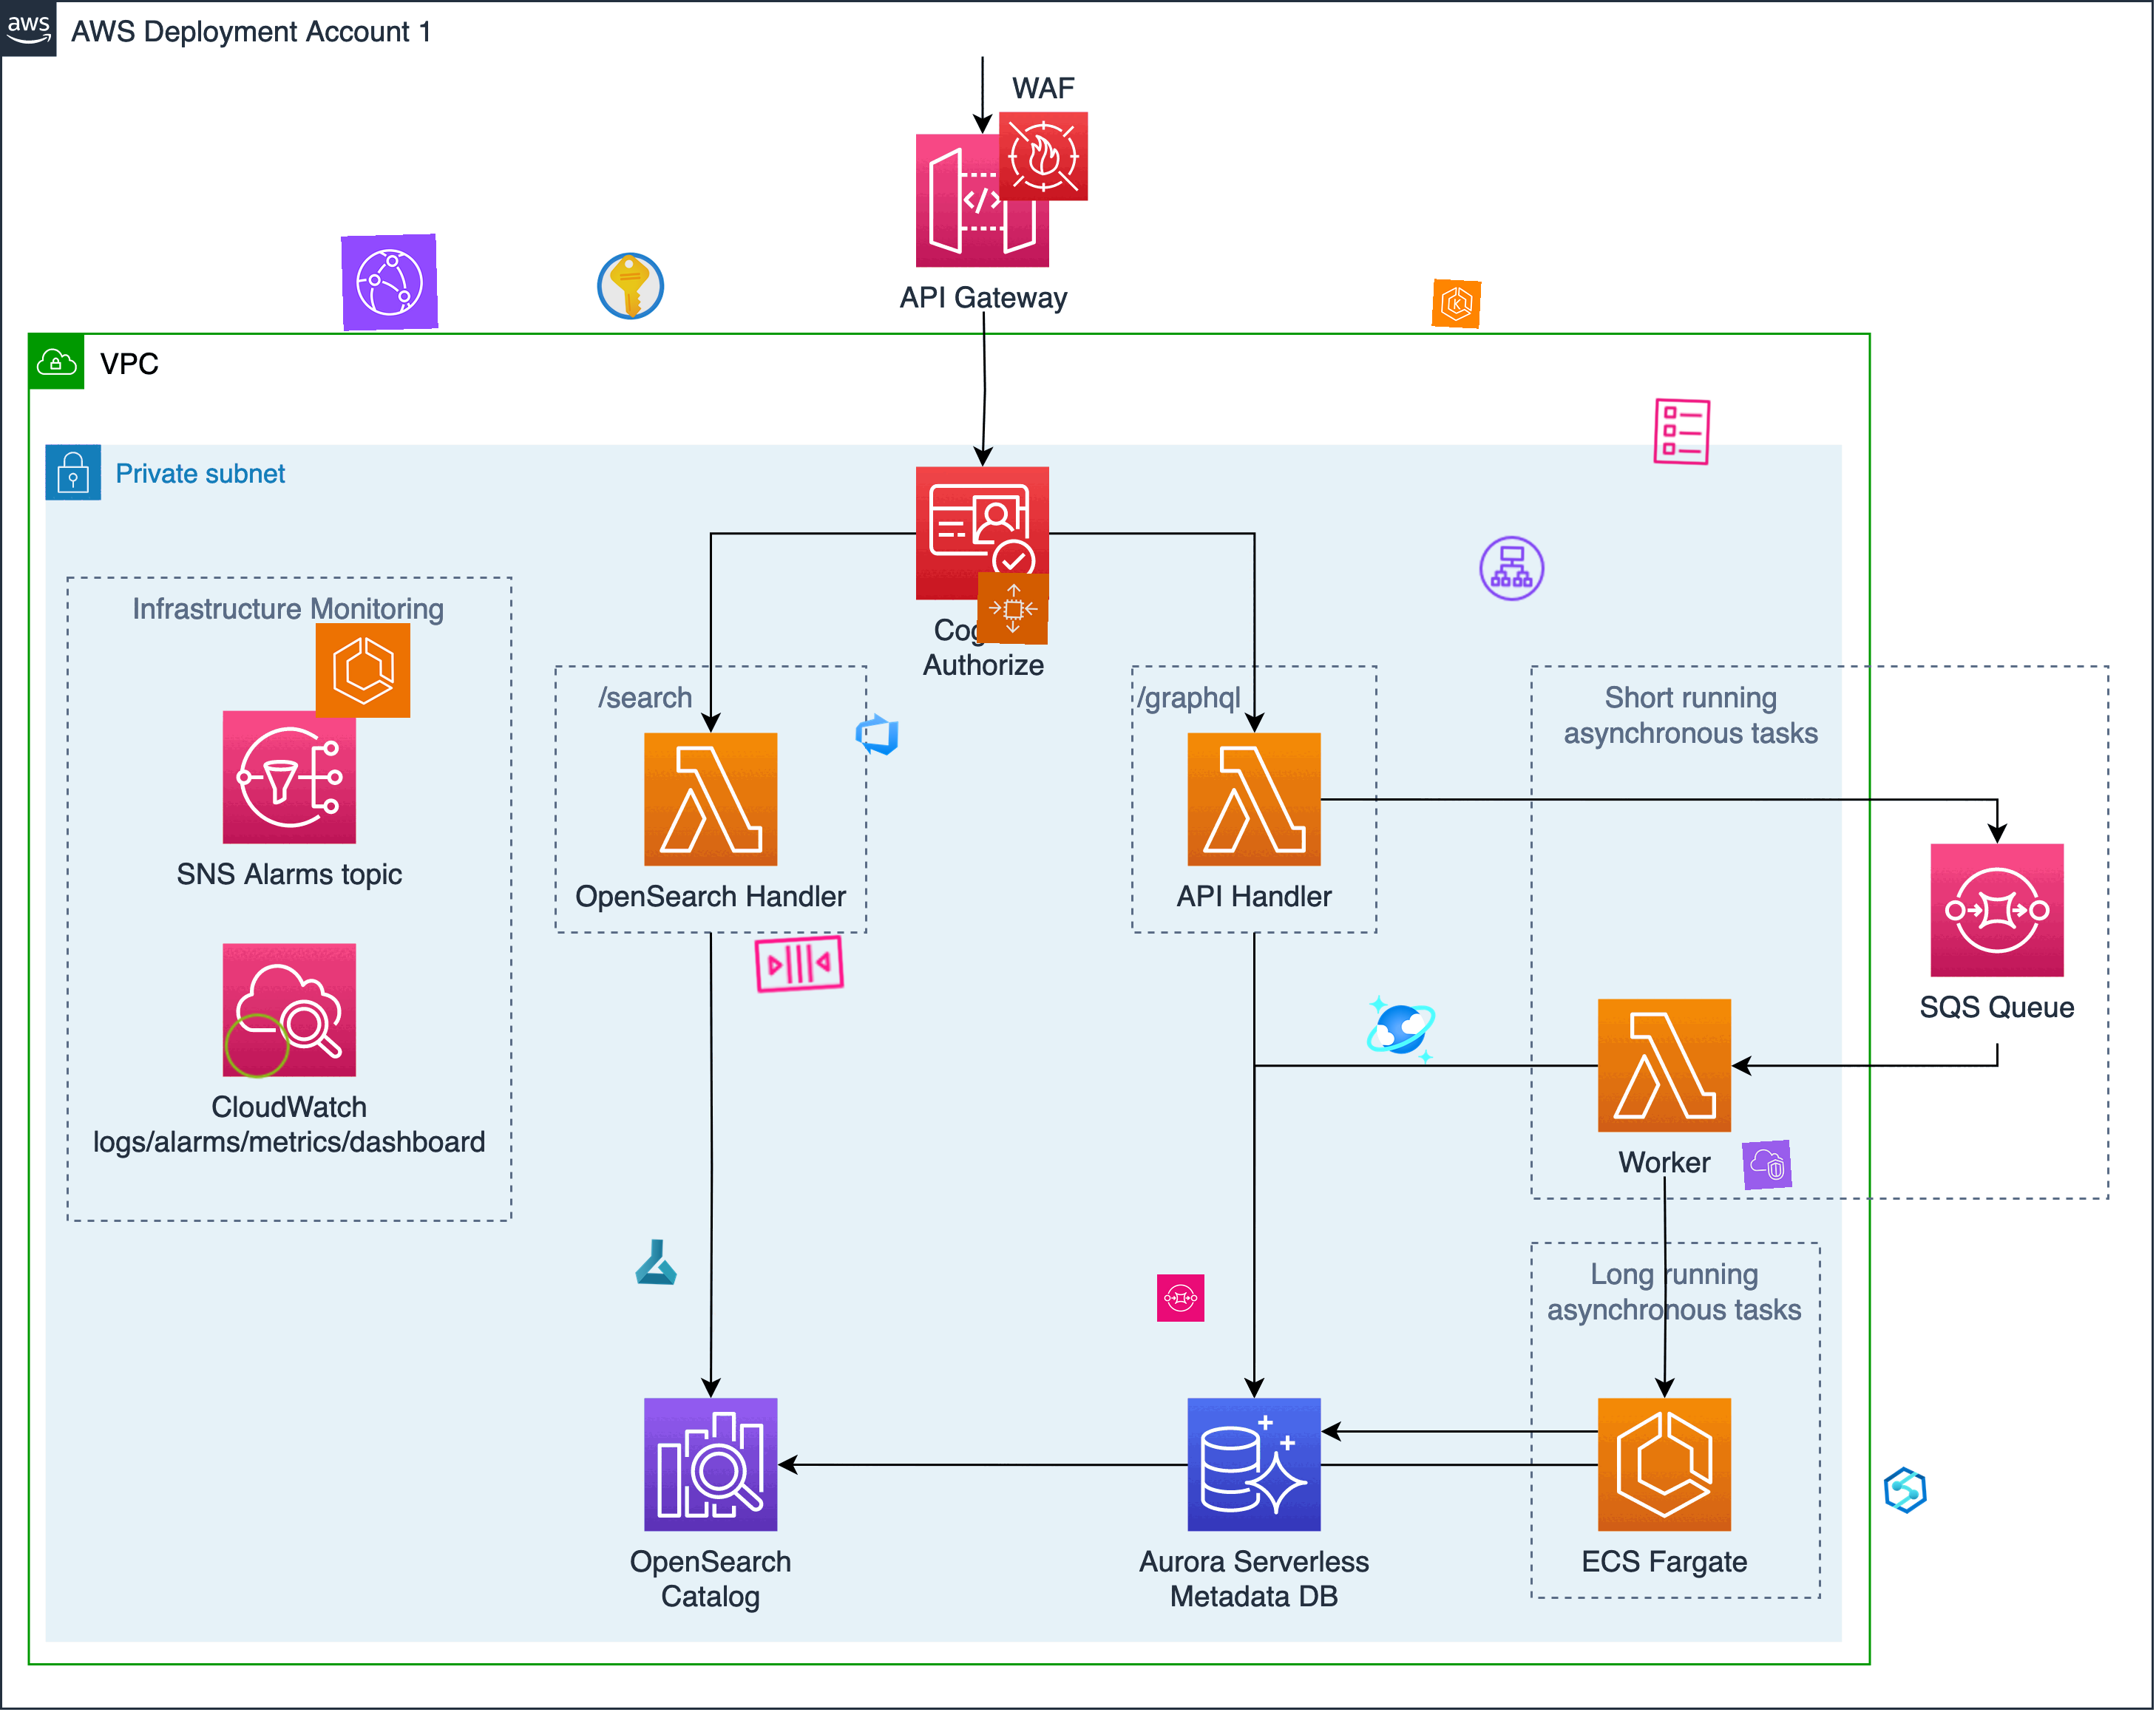aws_amazon_cloudfront: (341, 234, 439, 331)
aws_amazon_ec2_auto_scaling: (977, 572, 1050, 645)
aws_amazon_elastic_container_service: (315, 623, 411, 719)
aws_amazon_elastic_kubernetes_service: (1432, 278, 1482, 329)
aws_amazon_simple_queue_service: (1157, 1273, 1206, 1322)
aws_amazon_virtual_private_cloud: (1741, 1138, 1794, 1191)
aws_cloudformation_template: (1645, 395, 1718, 469)
aws_elastic_load_balancing_application_load_balancer: (1475, 532, 1549, 605)
aws_simple_queue_service_queue: (749, 913, 849, 1014)
aws_simple_storage_service_object: (219, 1009, 296, 1084)
azure_cosmos_db: (1363, 992, 1439, 1067)
azure_devops: (852, 710, 901, 759)
azure_key_vaults: (592, 248, 668, 325)
azure_machine_learning: (632, 1236, 682, 1287)
azure_synapse_analytics: (1880, 1464, 1932, 1516)
